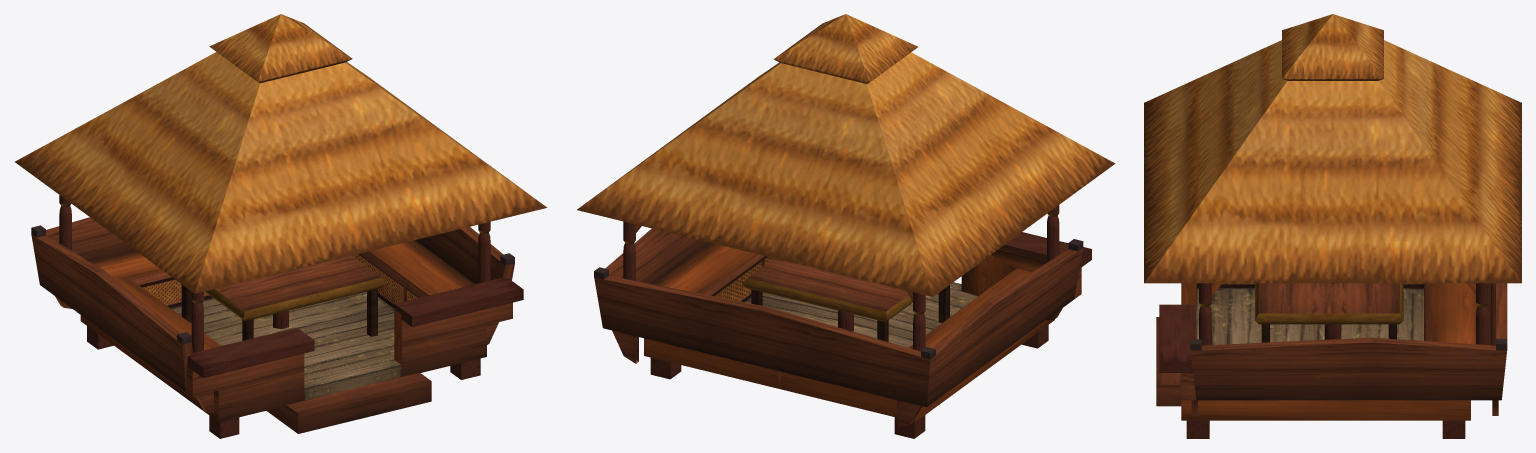
The model's file is Hut_01.fbx.
The picture shows the model from 3 angles, left to right: view 1: azimuth 30°, elevation 25°; view 2: azimuth 150°, elevation 25°; view 3: azimuth 270°, elevation 25°; orthographic projection. The views are drawn at different scales.
Parts seen in each view (by area): view 1: Hut_01; view 2: Hut_01; view 3: Hut_01.
Part boxes in pixels (<box>): Hut_01: <box>15,14,546,438</box>; Hut_01: <box>577,14,1115,438</box>; Hut_01: <box>1144,14,1521,438</box>.
Bounding box in the file's own units: 181 × 168 × 160.
